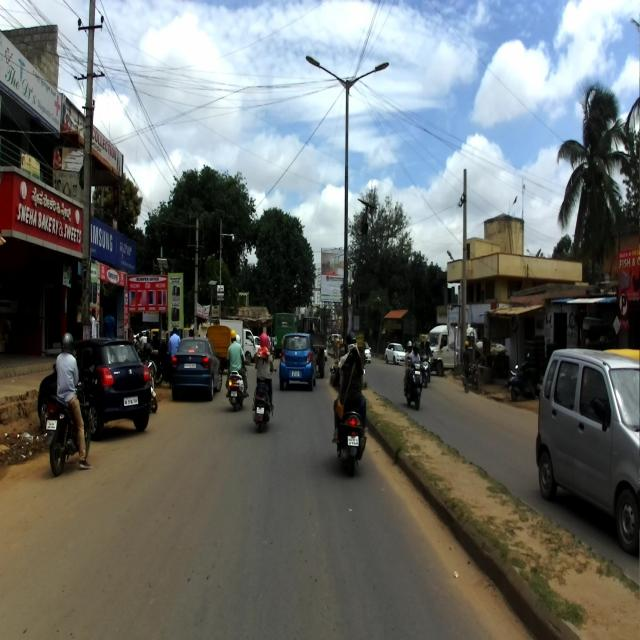Car_Maruti-Suzuki: (535, 348, 640, 553), (37, 338, 152, 432)
motorcycle_Honda: (41, 369, 91, 474)
scooter: (330, 364, 369, 476), (248, 357, 279, 426), (224, 351, 251, 411)
